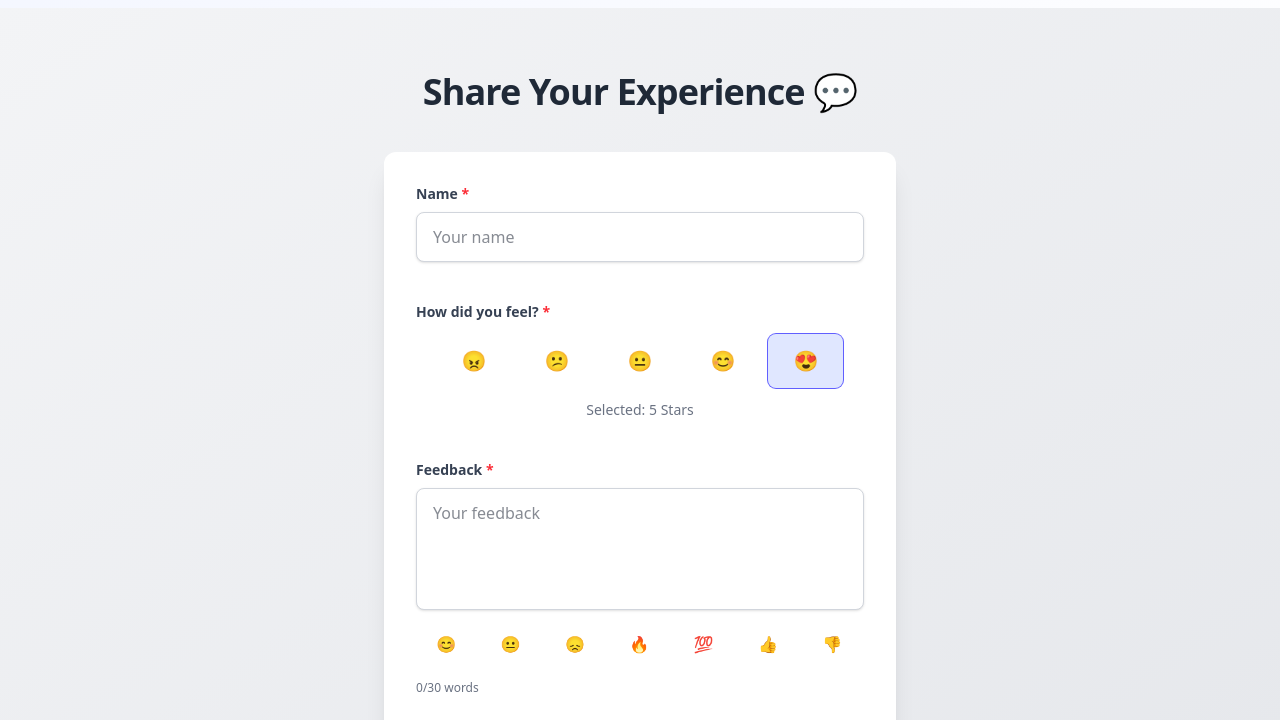
Test case: Home Page › emoji rating selection updates form state
The image size is (1280, 720).
(page scrolled)
Click the button named "Good (4 star)" at (723, 361), box top-left (686, 334), bottom-right (760, 388)
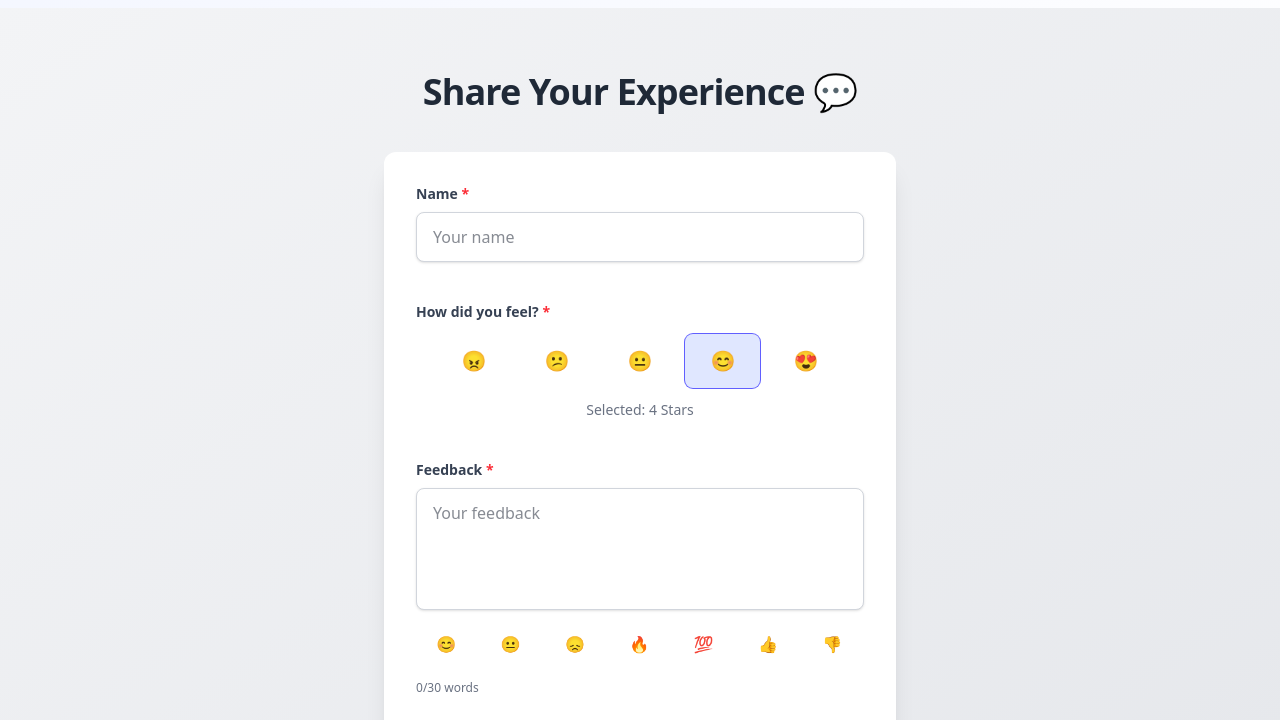
Result: the text "Selected: 4 Stars" is shown at top-left (586, 400), bottom-right (694, 419)
